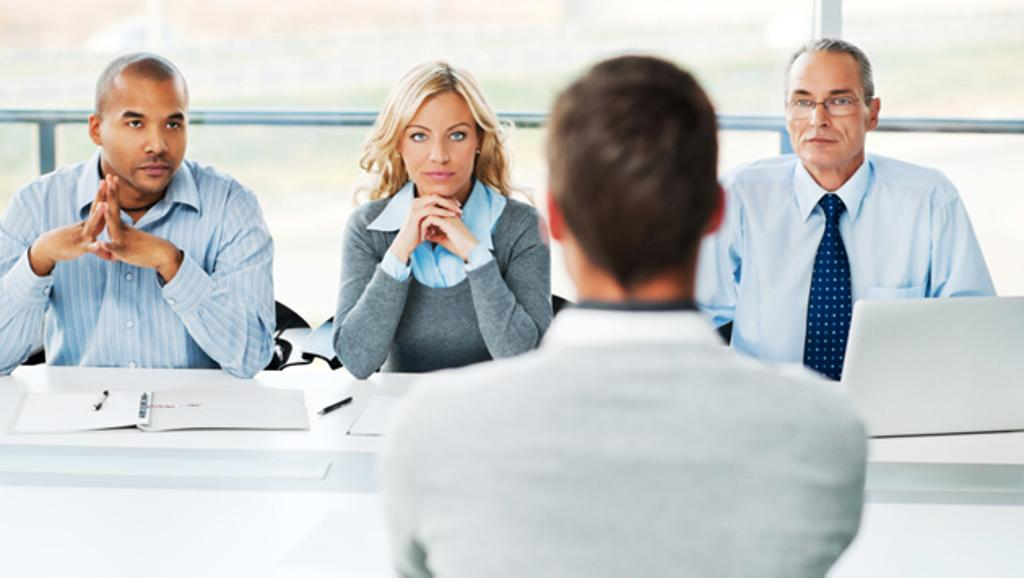face: (106, 70, 192, 188), (786, 52, 862, 170), (406, 96, 486, 202)
